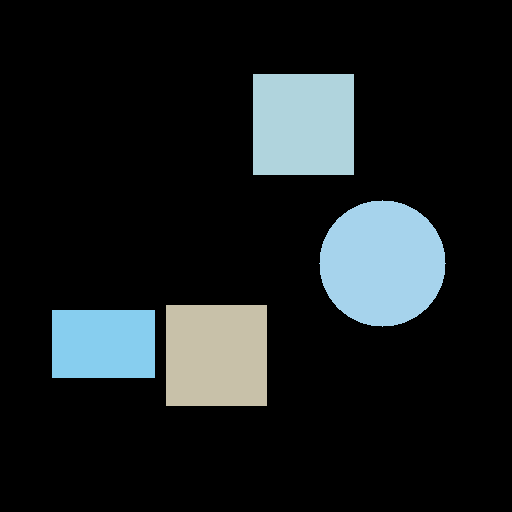circle: (319, 200, 445, 326)
rectangle: (52, 310, 154, 377)
square: (166, 305, 266, 405), (253, 74, 353, 174)
